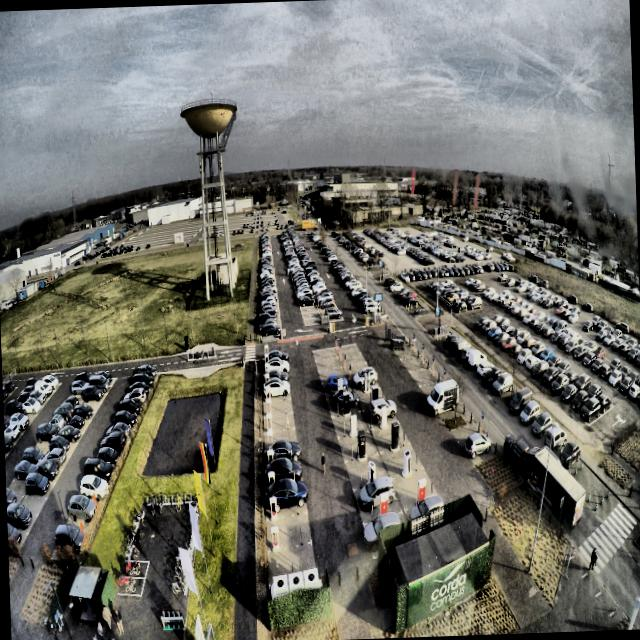cabinet: (273, 567, 318, 591)
car: (265, 478, 308, 511), (265, 458, 303, 484), (266, 439, 302, 464), (263, 377, 290, 399), (263, 356, 290, 373), (261, 369, 289, 382), (266, 348, 288, 361)
parking: (267, 541, 316, 586), (267, 511, 311, 551), (265, 486, 307, 519), (265, 464, 304, 493), (264, 444, 300, 472), (263, 428, 297, 450), (264, 412, 294, 434), (263, 398, 292, 417), (263, 383, 290, 403), (262, 371, 288, 389), (262, 353, 286, 367), (262, 362, 287, 374)
supercharger: (270, 526, 280, 551), (269, 497, 278, 519), (266, 431, 273, 448), (268, 471, 275, 487), (267, 449, 273, 466), (266, 415, 272, 432), (265, 399, 271, 414), (265, 386, 271, 400), (265, 374, 270, 385), (264, 354, 269, 364), (264, 363, 268, 372), (264, 345, 268, 354)
